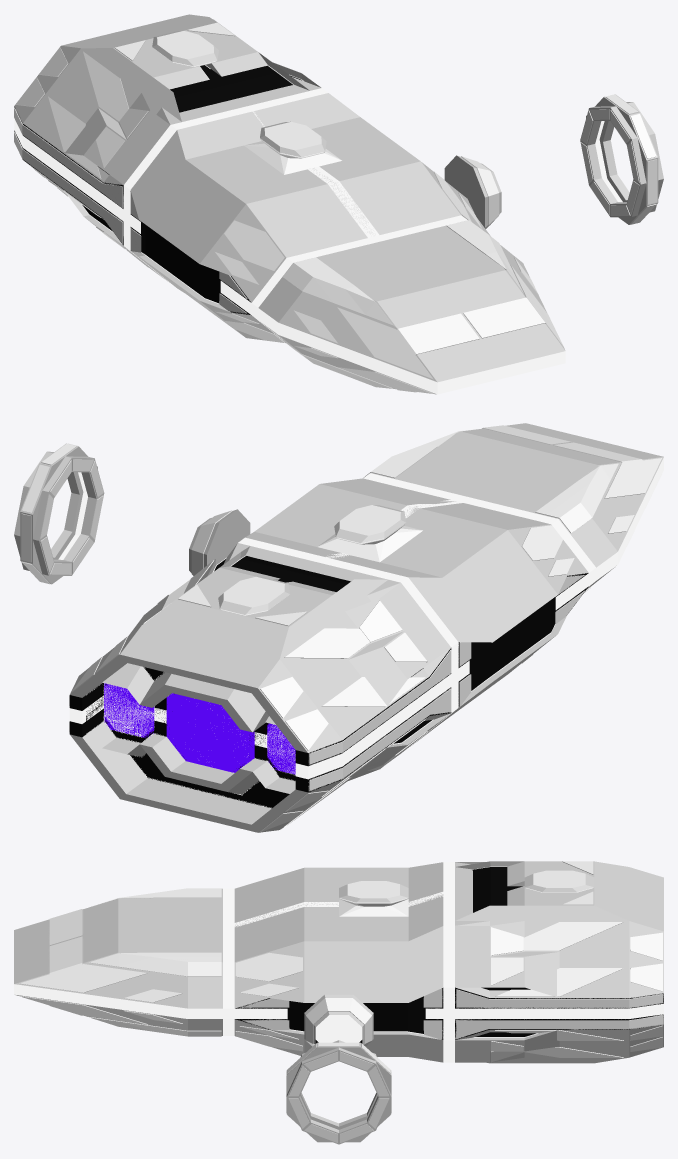
The model's file is 329-6-Sapphire.glb.
3 renders of one model, top to bottom at view 1: azimuth 30°, elevation 25°; view 2: azimuth 150°, elevation 25°; view 3: azimuth 270°, elevation 25°, orthographic. The views are drawn at different scales.
Visible parts, largest first — view 1: Core.005, Core.004, Core.013, Core.007, Core.003, Core.010, Core.006, Core.008, Spinal-Ring.004, Core.014, Core.011, Core.012 (+2 smaller); view 2: Core.003, Core.005, Core.006, Core.013, Core.004, Core.007, Core.008, Spinal-Ring.004, Core.010, Core.014, Core.011, Spinal-Barrel (+2 smaller); view 3: Core.005, Core.004, Core.013, Core.003, Core.007, Core.006, Core.008, Core.014, Core.010, Spinal-Ring.004, Core.011, Spinal-Barrel (+2 smaller).
Boxes of the visible parts, x1,y1,x2,y2 form: Core.005: [127, 90, 490, 340]; Core.004: [255, 218, 565, 394]; Core.013: [14, 18, 320, 281]; Core.007: [23, 17, 267, 217]; Core.003: [14, 14, 324, 284]; Core.010: [224, 104, 471, 342]; Core.006: [14, 17, 309, 243]; Core.008: [130, 132, 482, 340]; Spinal-Ring.004: [580, 94, 663, 224]; Core.014: [282, 220, 564, 388]; Core.011: [293, 246, 564, 394]; Core.012: [376, 297, 555, 392]; Core.003: [69, 540, 454, 832]; Core.005: [242, 476, 592, 748]; Core.006: [69, 546, 451, 831]; Core.013: [70, 543, 450, 832]; Core.004: [367, 423, 663, 589]; Core.007: [84, 566, 425, 828]; Core.008: [276, 500, 575, 707]; Spinal-Ring.004: [14, 443, 104, 584]; Core.010: [307, 479, 562, 663]; Core.014: [363, 423, 659, 592]; Core.011: [419, 447, 663, 539]; Spinal-Barrel: [189, 509, 250, 575]; Core.005: [228, 862, 449, 1062]; Core.004: [14, 888, 228, 1035]; Core.013: [455, 862, 663, 1062]; Core.003: [449, 862, 663, 1062]; Core.007: [490, 861, 629, 1063]; Core.006: [455, 861, 663, 1063]; Core.008: [236, 868, 442, 1051]; Core.014: [14, 888, 222, 1036]; Core.010: [234, 881, 443, 1051]; Spinal-Ring.004: [286, 1040, 391, 1144]; Core.011: [19, 898, 184, 1025]; Spinal-Barrel: [304, 994, 373, 1046].
Size of the model in its own units: 19.52 by 7.9 by 28.
